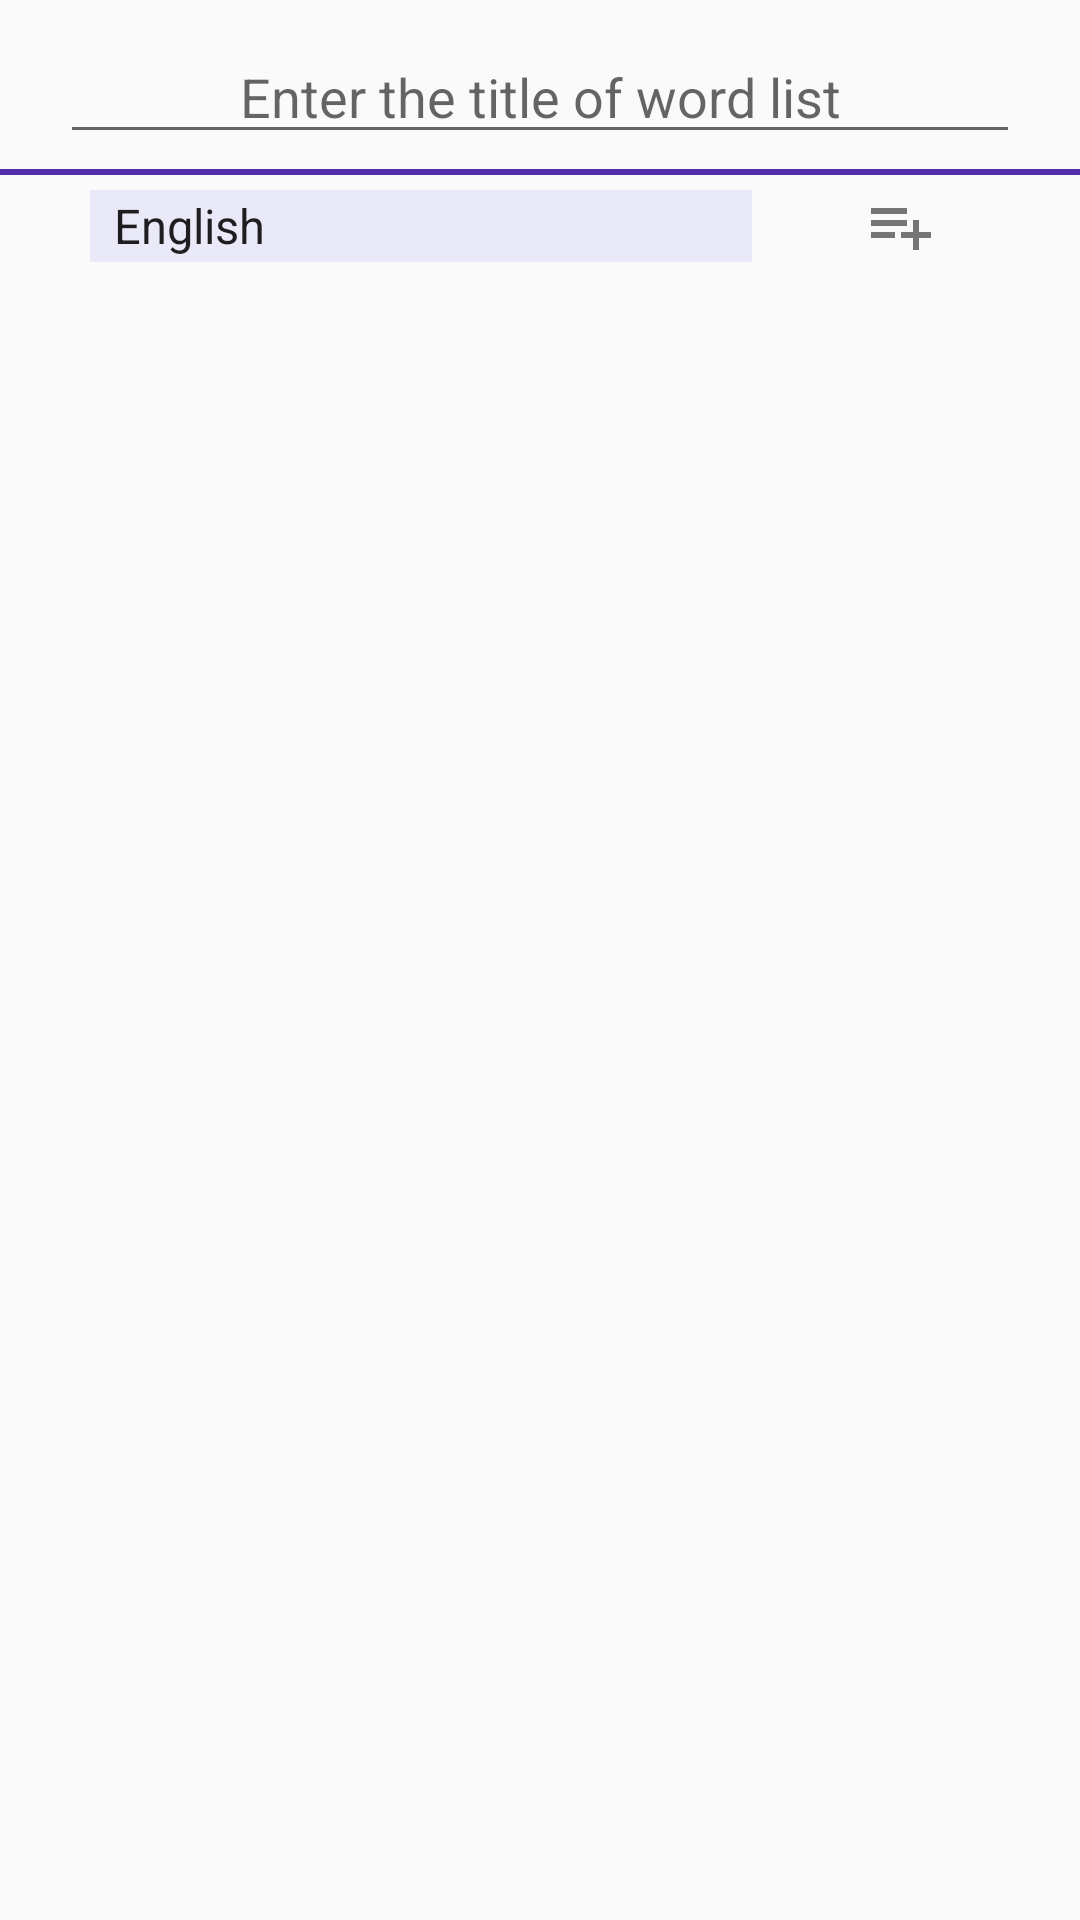

Icons on this 1080x1920 Android screen, each with its box as (x1, y1, x2, y2):
add: (871, 208, 931, 250)
